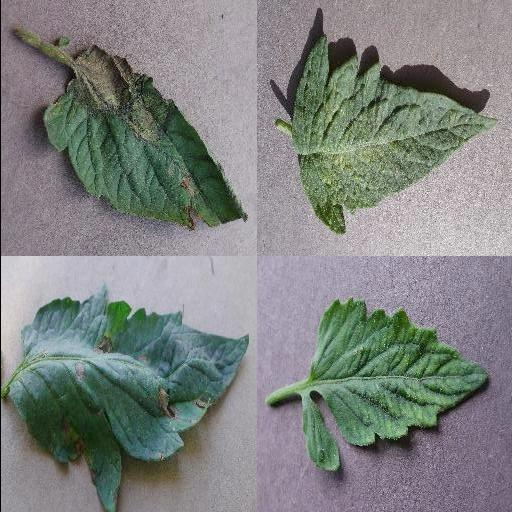Early Blight: (0, 288, 250, 512)
Late Blight: (41, 43, 247, 229)
Mosaic Virus: (302, 297, 490, 471)
Spider Mites: (290, 34, 500, 236)
